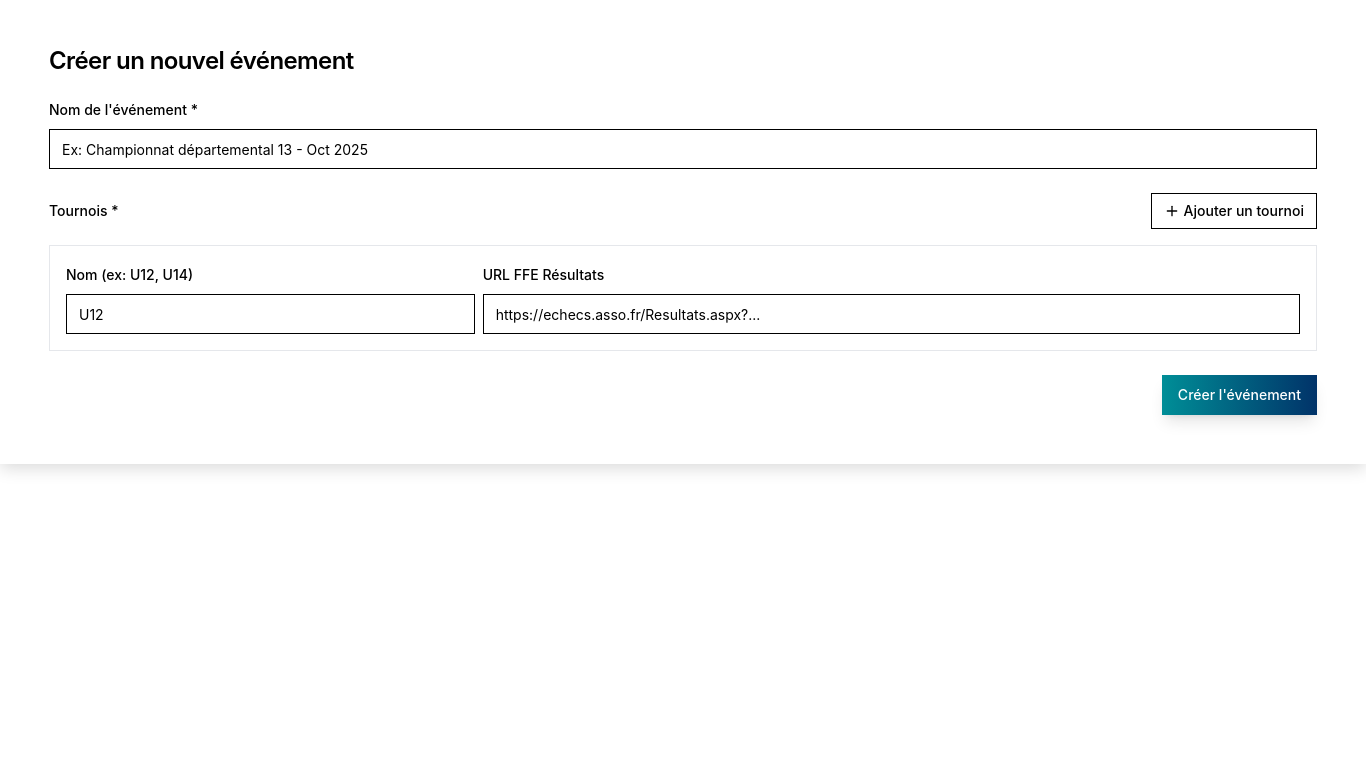
EventForm › Tournament Management › adds a new tournament when add button is clicked
Click the button "Ajouter un tournoi": (1234, 211) [1151,193,1317,229]
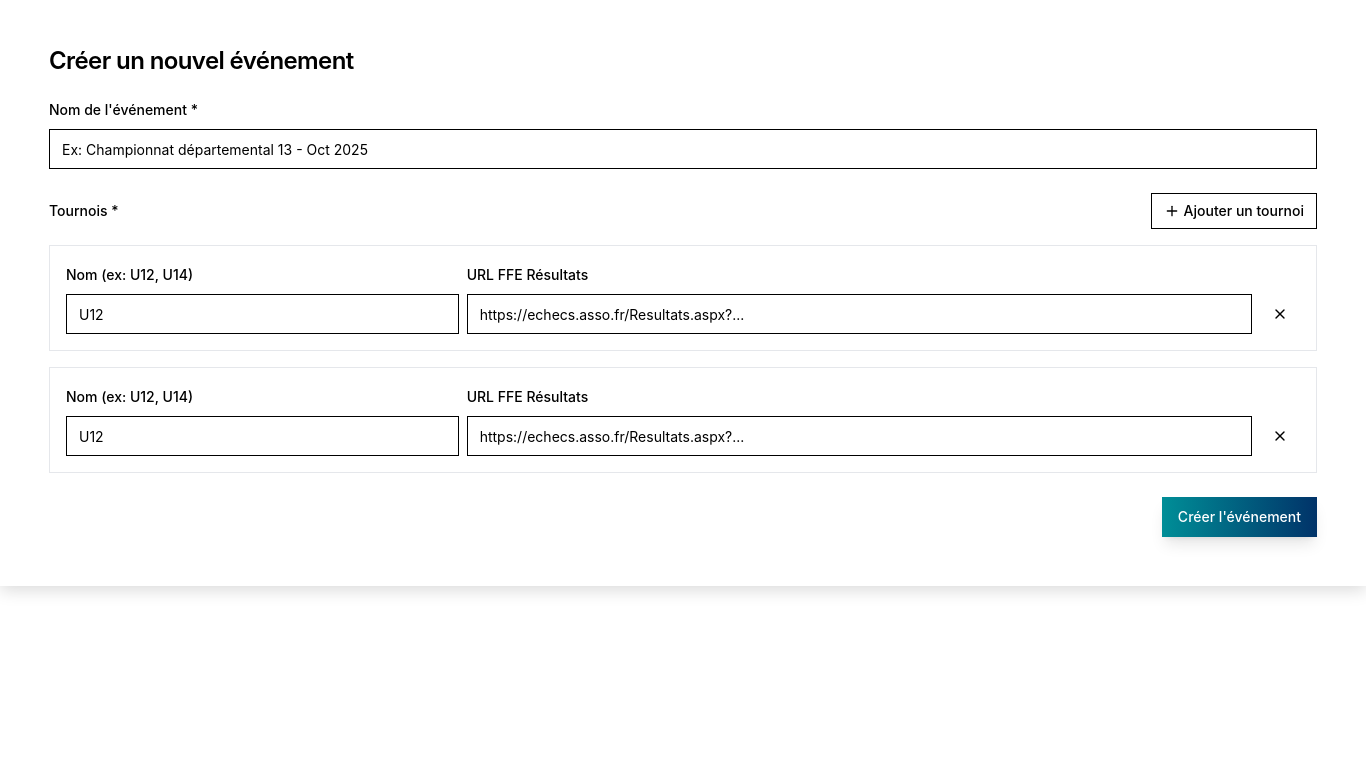
Result: the number of fields labelled "Nom (ex: U12, U14)" is 2 at [66,294,459,334]; [66,416,459,456]
